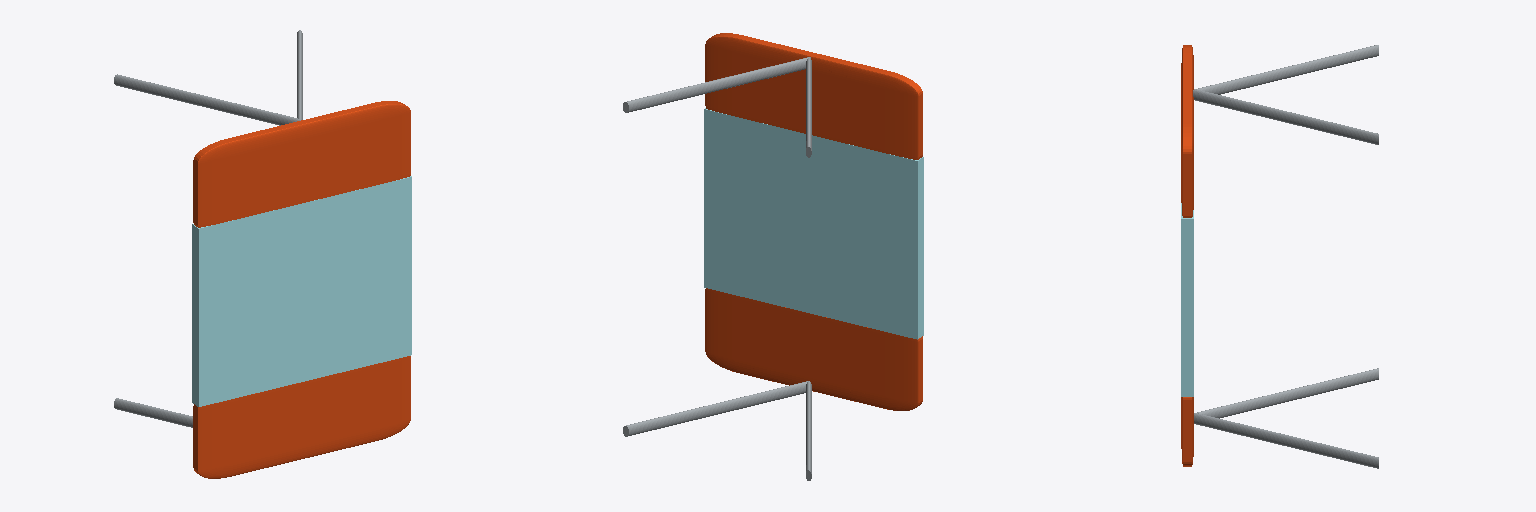
Rendered from tinker.obj.
3 renders of one model, left to right at view 1: azimuth 30°, elevation 25°; view 2: azimuth 150°, elevation 25°; view 3: azimuth 270°, elevation 25°, orthographic.
Parts seen in each view (by area): view 1: obj_0; view 2: obj_0; view 3: obj_0.
Part boxes in pixels (left/top/right/bottom): obj_0: left=114, top=30, right=411, bottom=478; obj_0: left=623, top=33, right=923, bottom=480; obj_0: left=1181, top=45, right=1378, bottom=468.
Size of the model in its own units: 20 by 30 by 16.